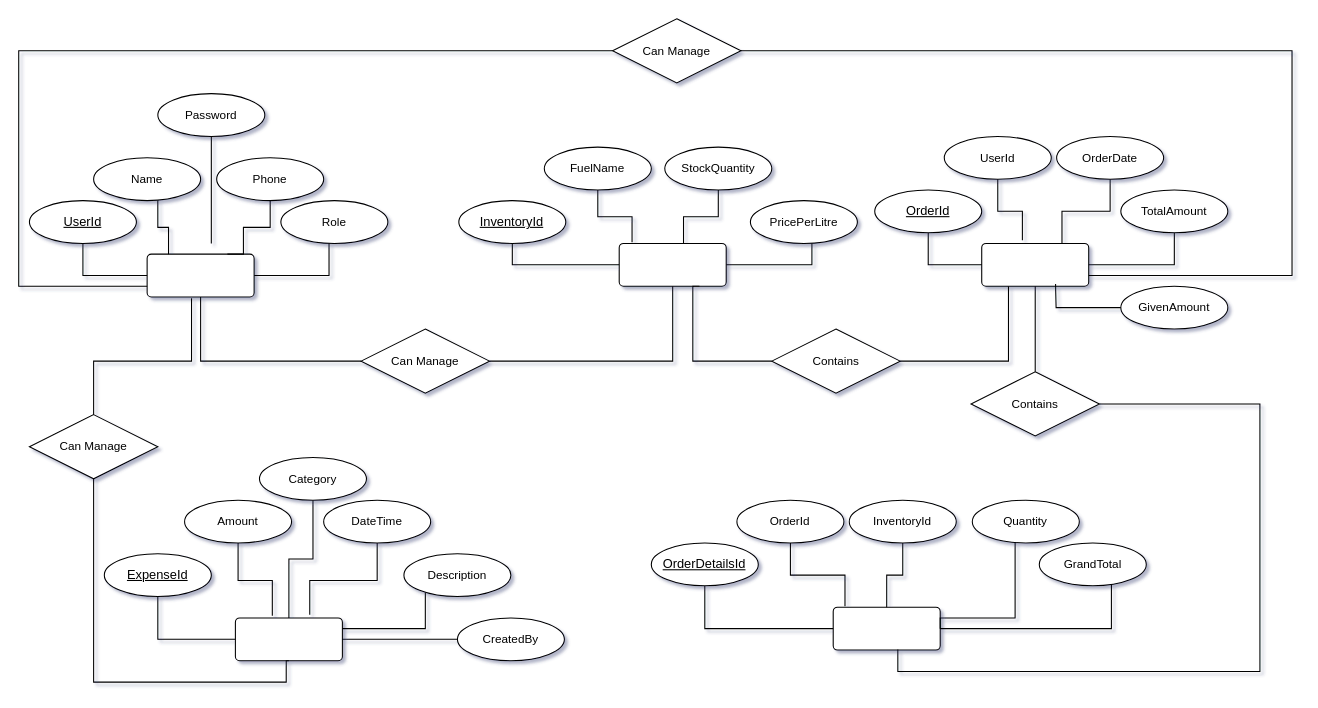
The diagram is 1318 pixels wide and 708 high, and some of its shapes have lost their labels. Each missing label, with the centre of its shape:
"Expenses" belongs at point (288, 639).
"Inventories" belongs at point (672, 264).
"OrderDetails" belongs at point (886, 628).
"Orders" belongs at point (1035, 264).
"Users" belongs at point (200, 275).
